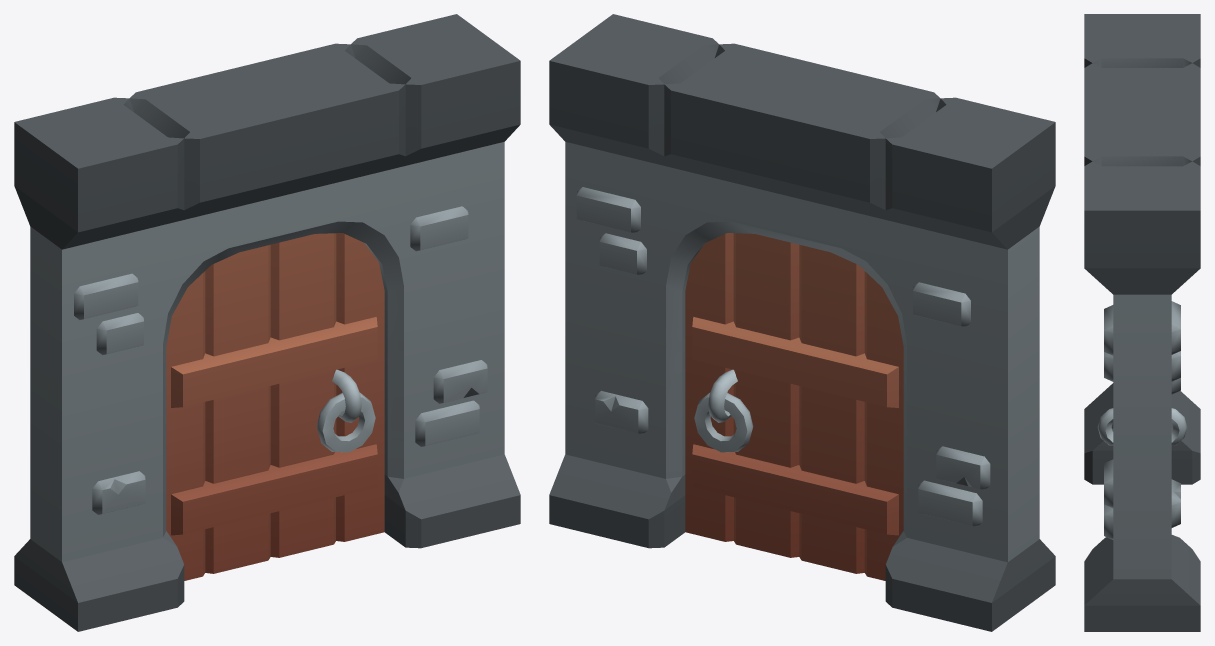
Rendered from dungeon-doorway.glb.
The picture shows the model from 3 angles, left to right: view 1: azimuth 30°, elevation 25°; view 2: azimuth 150°, elevation 25°; view 3: azimuth 270°, elevation 25°; orthographic projection. The views are drawn at different scales.
Visible parts, largest first — view 1: Cube.13132, wall_doorway_door; view 2: Cube.13132, wall_doorway_door; view 3: Cube.13132, wall_doorway_door.
Part boxes in pixels (x1=…): Cube.13132: x1=14, y1=14, x2=520, y2=631; wall_doorway_door: x1=166, y1=233, x2=384, y2=580; Cube.13132: x1=549, y1=14, x2=1055, y2=631; wall_doorway_door: x1=685, y1=233, x2=903, y2=580; Cube.13132: x1=1084, y1=14, x2=1200, y2=631; wall_doorway_door: x1=1097, y1=408, x2=1187, y2=445.
Bounding box in the file's own units: 3 × 3 × 0.7501.
1 material, 1 textured.
